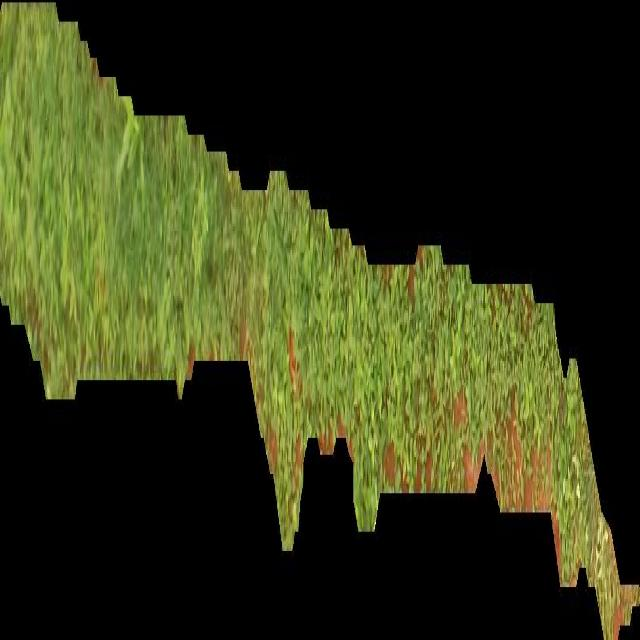Weed: (0, 2, 640, 640)
